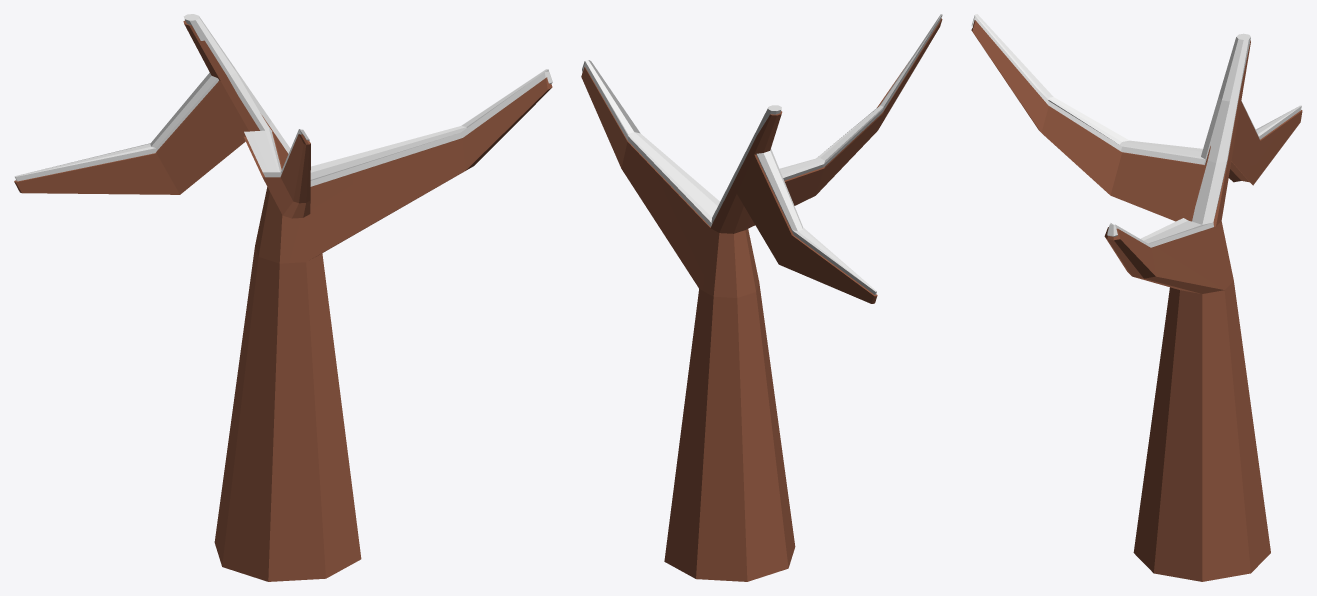
File: Bush_5_winter.fbx
The picture shows the model from 3 angles, left to right: view 1: azimuth 30°, elevation 25°; view 2: azimuth 150°, elevation 25°; view 3: azimuth 270°, elevation 25°; orthographic projection. The views are drawn at different scales.
Parts seen in each view (by area): view 1: Bush_5_winter; view 2: Bush_5_winter; view 3: Bush_5_winter.
Part boxes in pixels (left/top/right/bottom): Bush_5_winter: left=14, top=14, right=552, bottom=581; Bush_5_winter: left=581, top=14, right=942, bottom=581; Bush_5_winter: left=971, top=14, right=1302, bottom=581.
Size of the model in its own units: 19.74 by 23.47 by 14.41.
